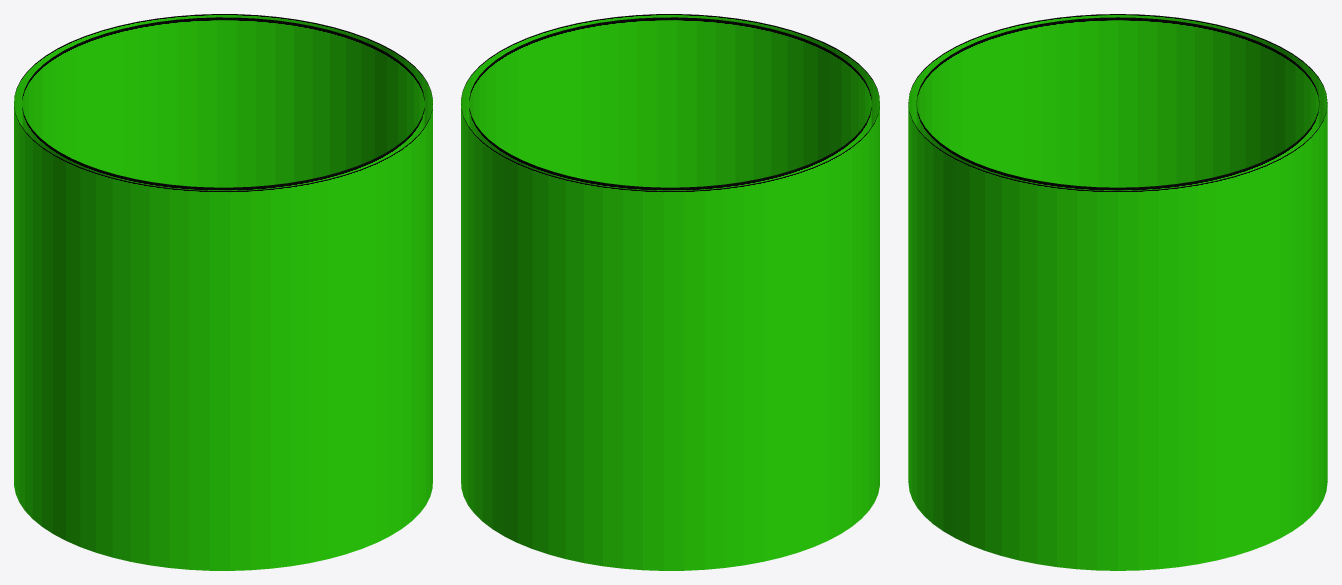
The model's file is telecylinder.fbx.
3 renders of one model, left to right at view 1: azimuth 30°, elevation 25°; view 2: azimuth 150°, elevation 25°; view 3: azimuth 270°, elevation 25°, orthographic.
Parts seen in each view (by area): view 1: Cylinder.007; view 2: Cylinder.007; view 3: Cylinder.007.
Part boxes in pixels (box(x1,y1,x2,y2)): Cylinder.007: box(14, 14, 432, 570); Cylinder.007: box(461, 14, 879, 570); Cylinder.007: box(908, 14, 1327, 570).
Size of the model in its own units: 20 by 20 by 20.
